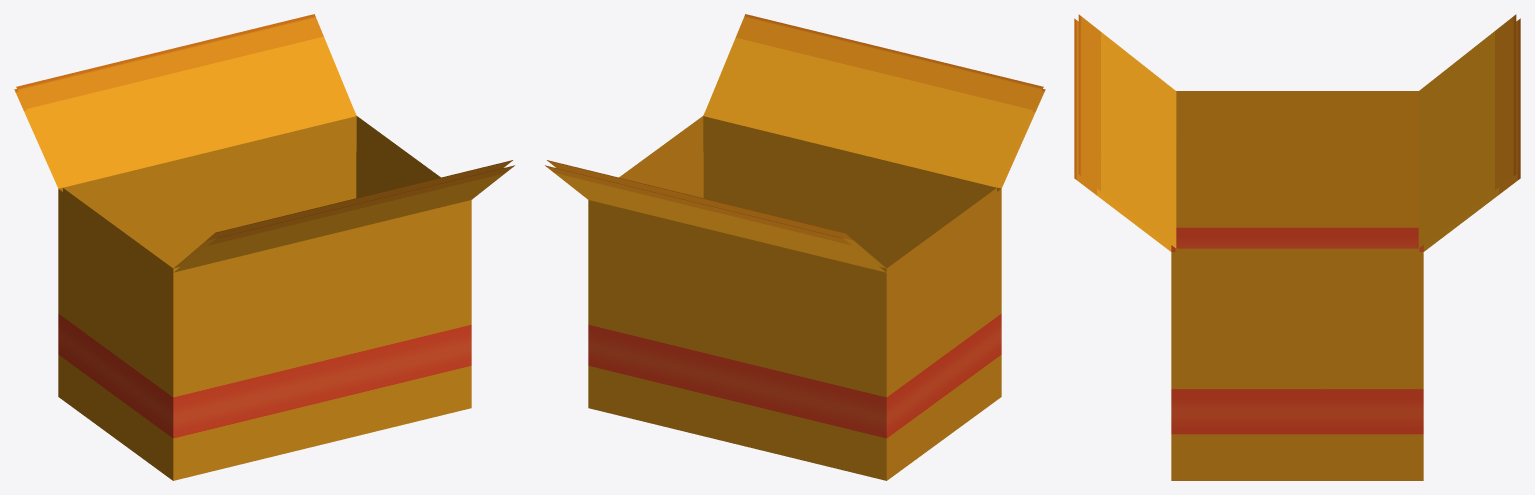
File: Trash_CardBoard_B.fbx
3 renders of one model, left to right at view 1: azimuth 30°, elevation 25°; view 2: azimuth 150°, elevation 25°; view 3: azimuth 270°, elevation 25°, orthographic. The views are drawn at different scales.
Parts seen in each view (by area): view 1: Trash_CardBoard_B; view 2: Trash_CardBoard_B; view 3: Trash_CardBoard_B.
Boxes of the visible parts, bbox=[...] form: Trash_CardBoard_B: bbox=[14, 14, 514, 480]; Trash_CardBoard_B: bbox=[545, 14, 1045, 480]; Trash_CardBoard_B: bbox=[1074, 14, 1520, 480].
Size of the model in its own units: 150 by 134 by 177.
